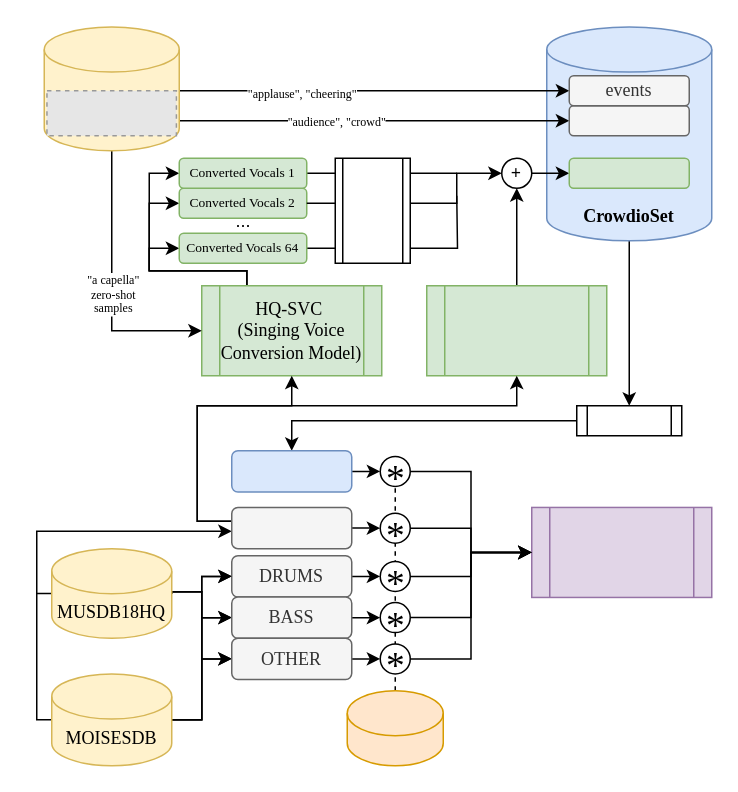
Image size: 738x792. Some labels were removed from this diagram. Grey dashed boxes stand in for pictures. Here are the shapes that lost their labels. From the top down, the centre of each, then its label:
At point (628, 120): "ambiences".
At point (628, 172): "sing-alongs".
At point (372, 210): "time-stretching amplitude envelope".
At point (516, 330): "Harmonizer (Antares AVOX Choir, 32 voices)".
At point (628, 420): "online mixing".
At point (291, 470): "AUDIENCE".
At point (291, 527): "VOCALS".
At point (621, 551): "SCNet (Separation Model)".
At point (394, 727): "PaRIRset".
